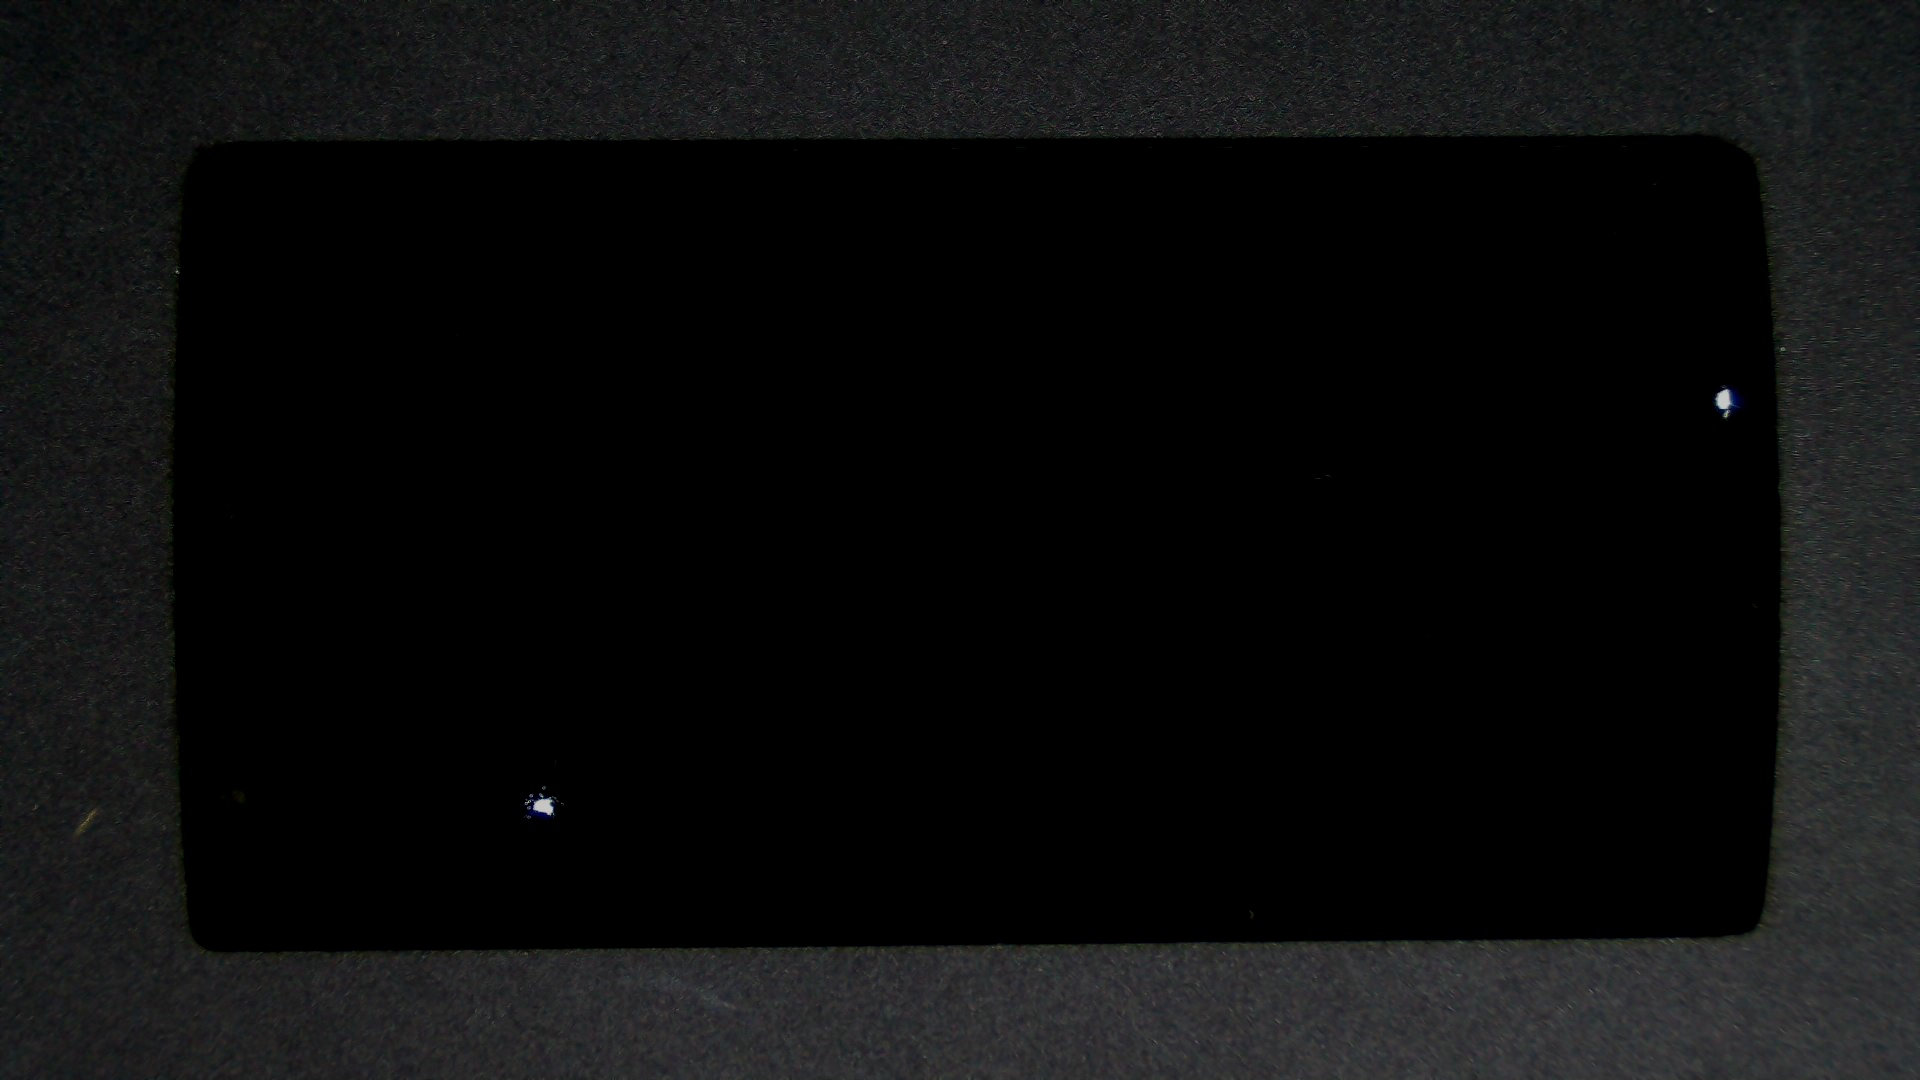oil: (862, 191, 1920, 575), (272, 392, 814, 1080)
